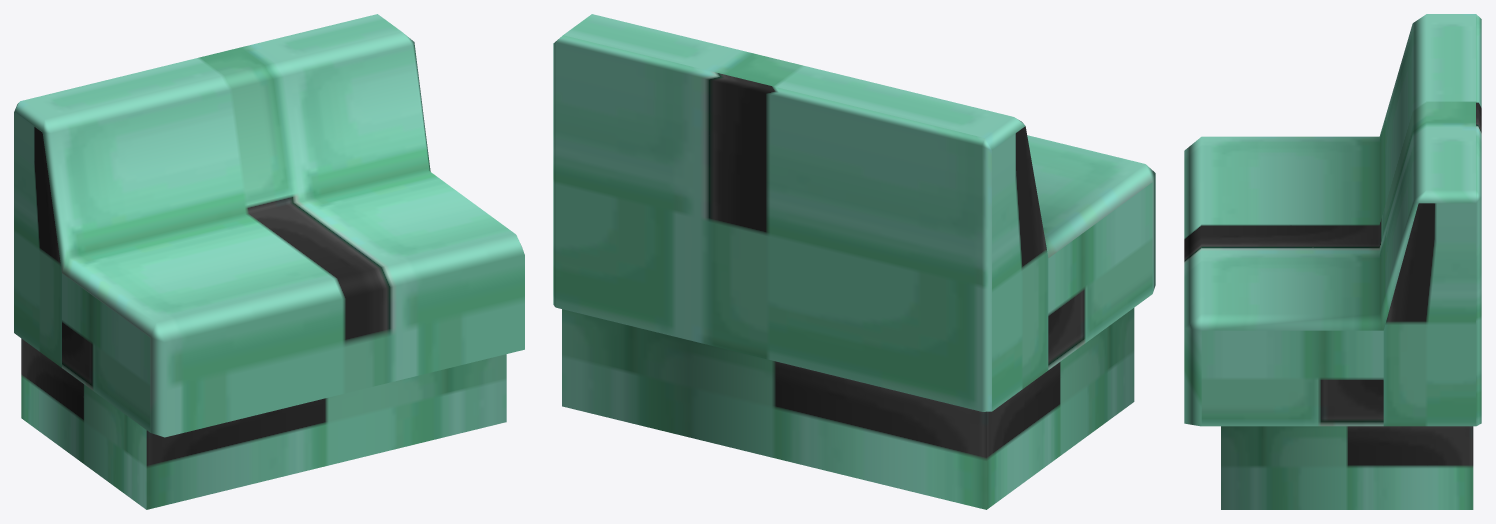
The model's file is rmk_oth_LchairS01.dae.
3 views of the same model, side by side, from view 1: azimuth 30°, elevation 25°; view 2: azimuth 150°, elevation 25°; view 3: azimuth 270°, elevation 25° (orthographic). The views are drawn at different scales.
Visible parts, largest first — view 1: rmk_oth_LchairS01; view 2: rmk_oth_LchairS01; view 3: rmk_oth_LchairS01.
Boxes of the visible parts, bbox=[...] form: rmk_oth_LchairS01: bbox=[14, 14, 524, 509]; rmk_oth_LchairS01: bbox=[553, 14, 1155, 509]; rmk_oth_LchairS01: bbox=[1184, 14, 1481, 509].
Bounding box in the file's own units: 32 × 26 × 21.97.
Materials: 1 (1 with a texture image).
